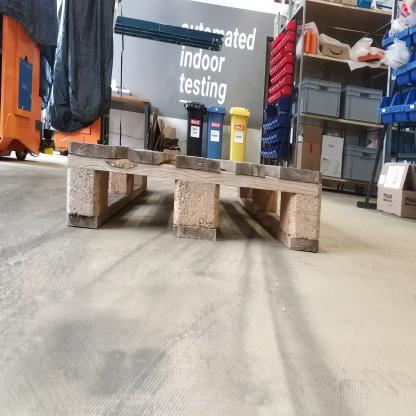BoxFace: (62, 135, 327, 257)
